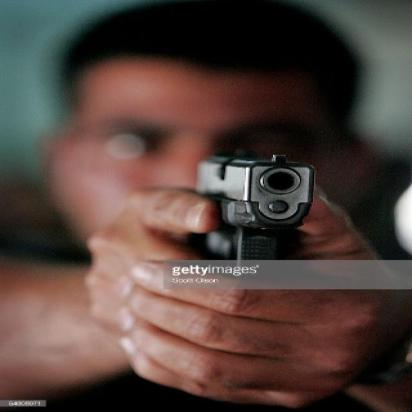Gun: (194, 147, 320, 275)
